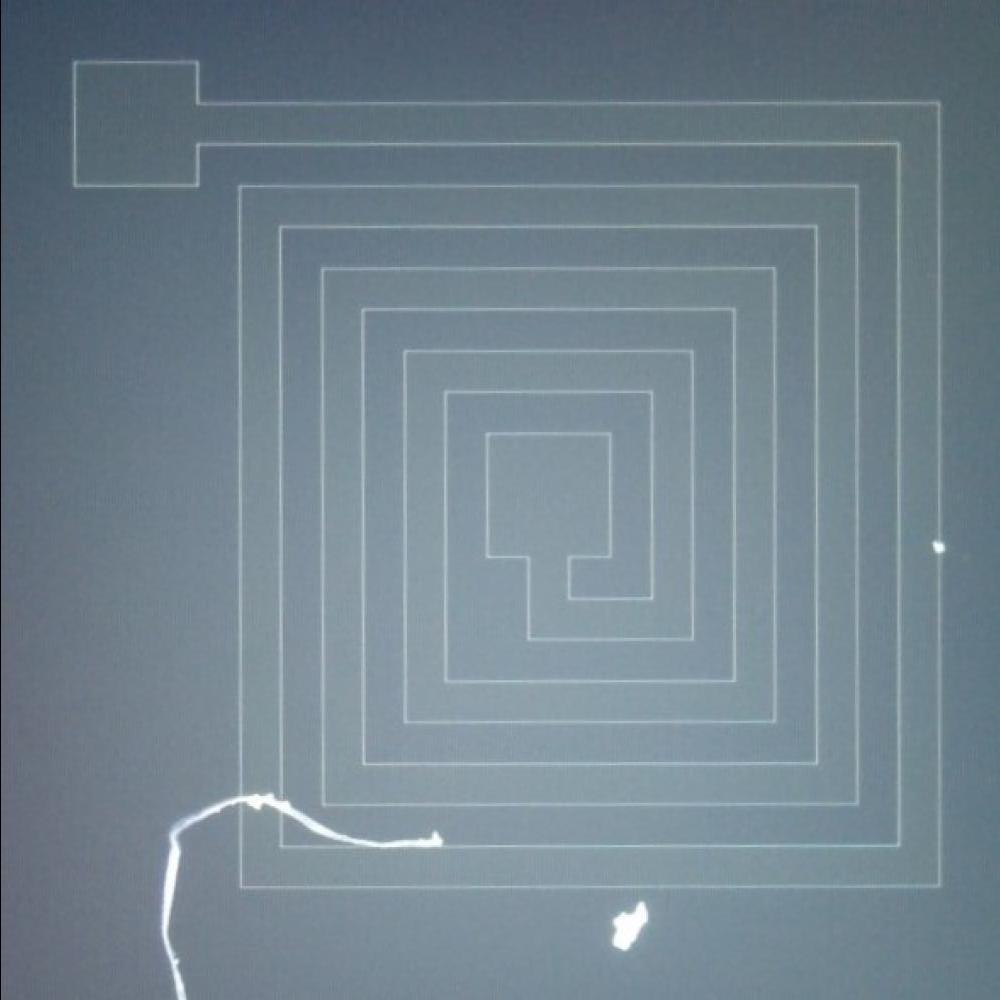line: (155, 789, 441, 999)
spot: (602, 897, 655, 962), (919, 531, 954, 569)
